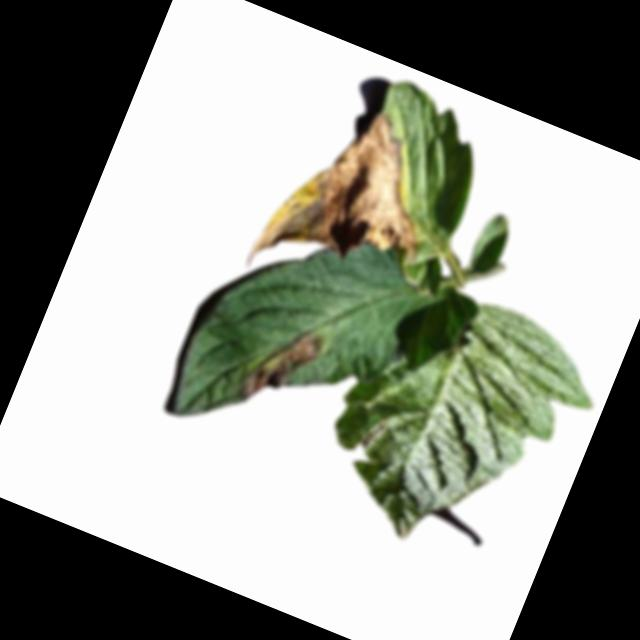Late_blight: (241, 83, 462, 324), (234, 311, 328, 419)
